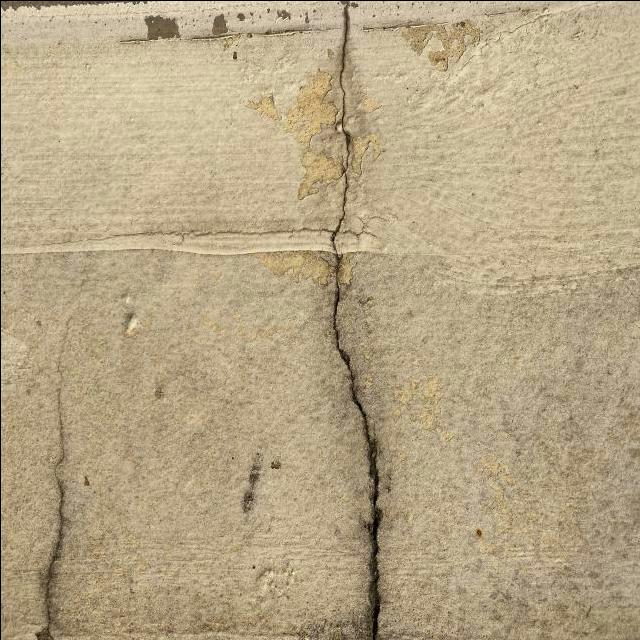SurfaceCrack: (305, 249, 423, 640), (2, 251, 97, 640)
